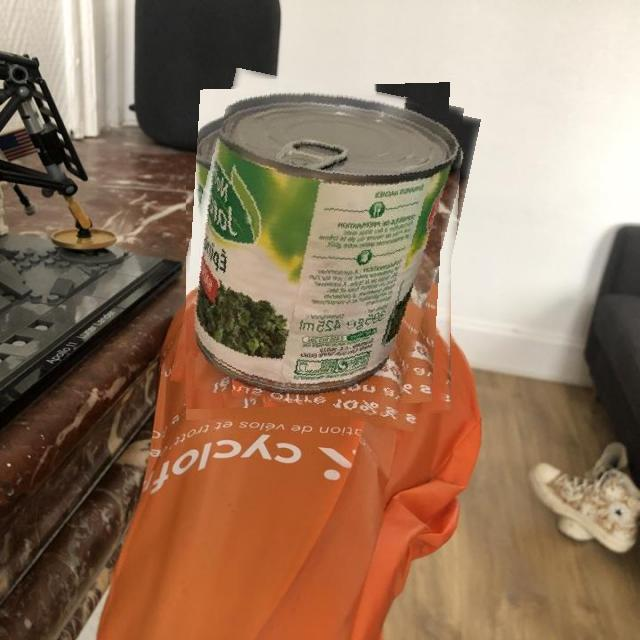recyclable: (186, 79, 466, 421)
